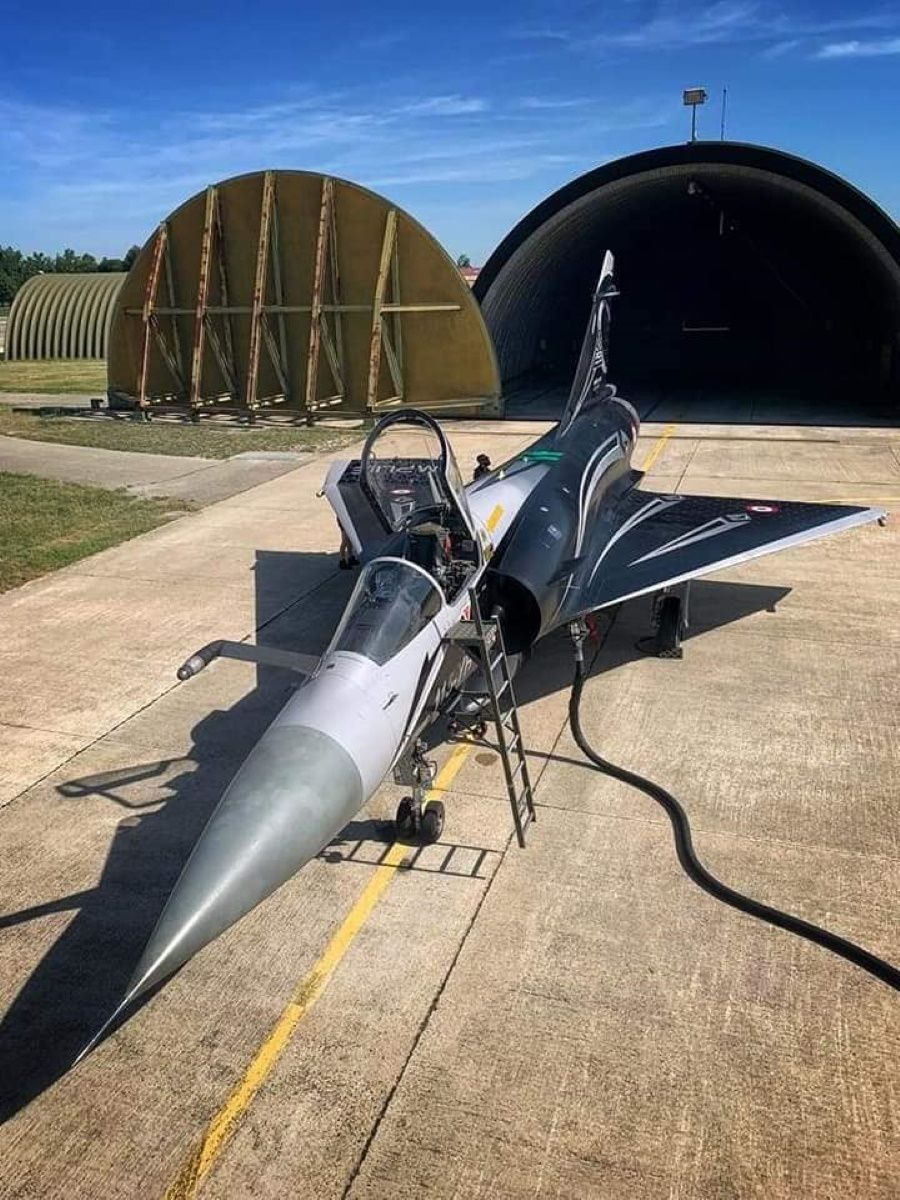Mirage2000: (70, 249, 891, 1068)
